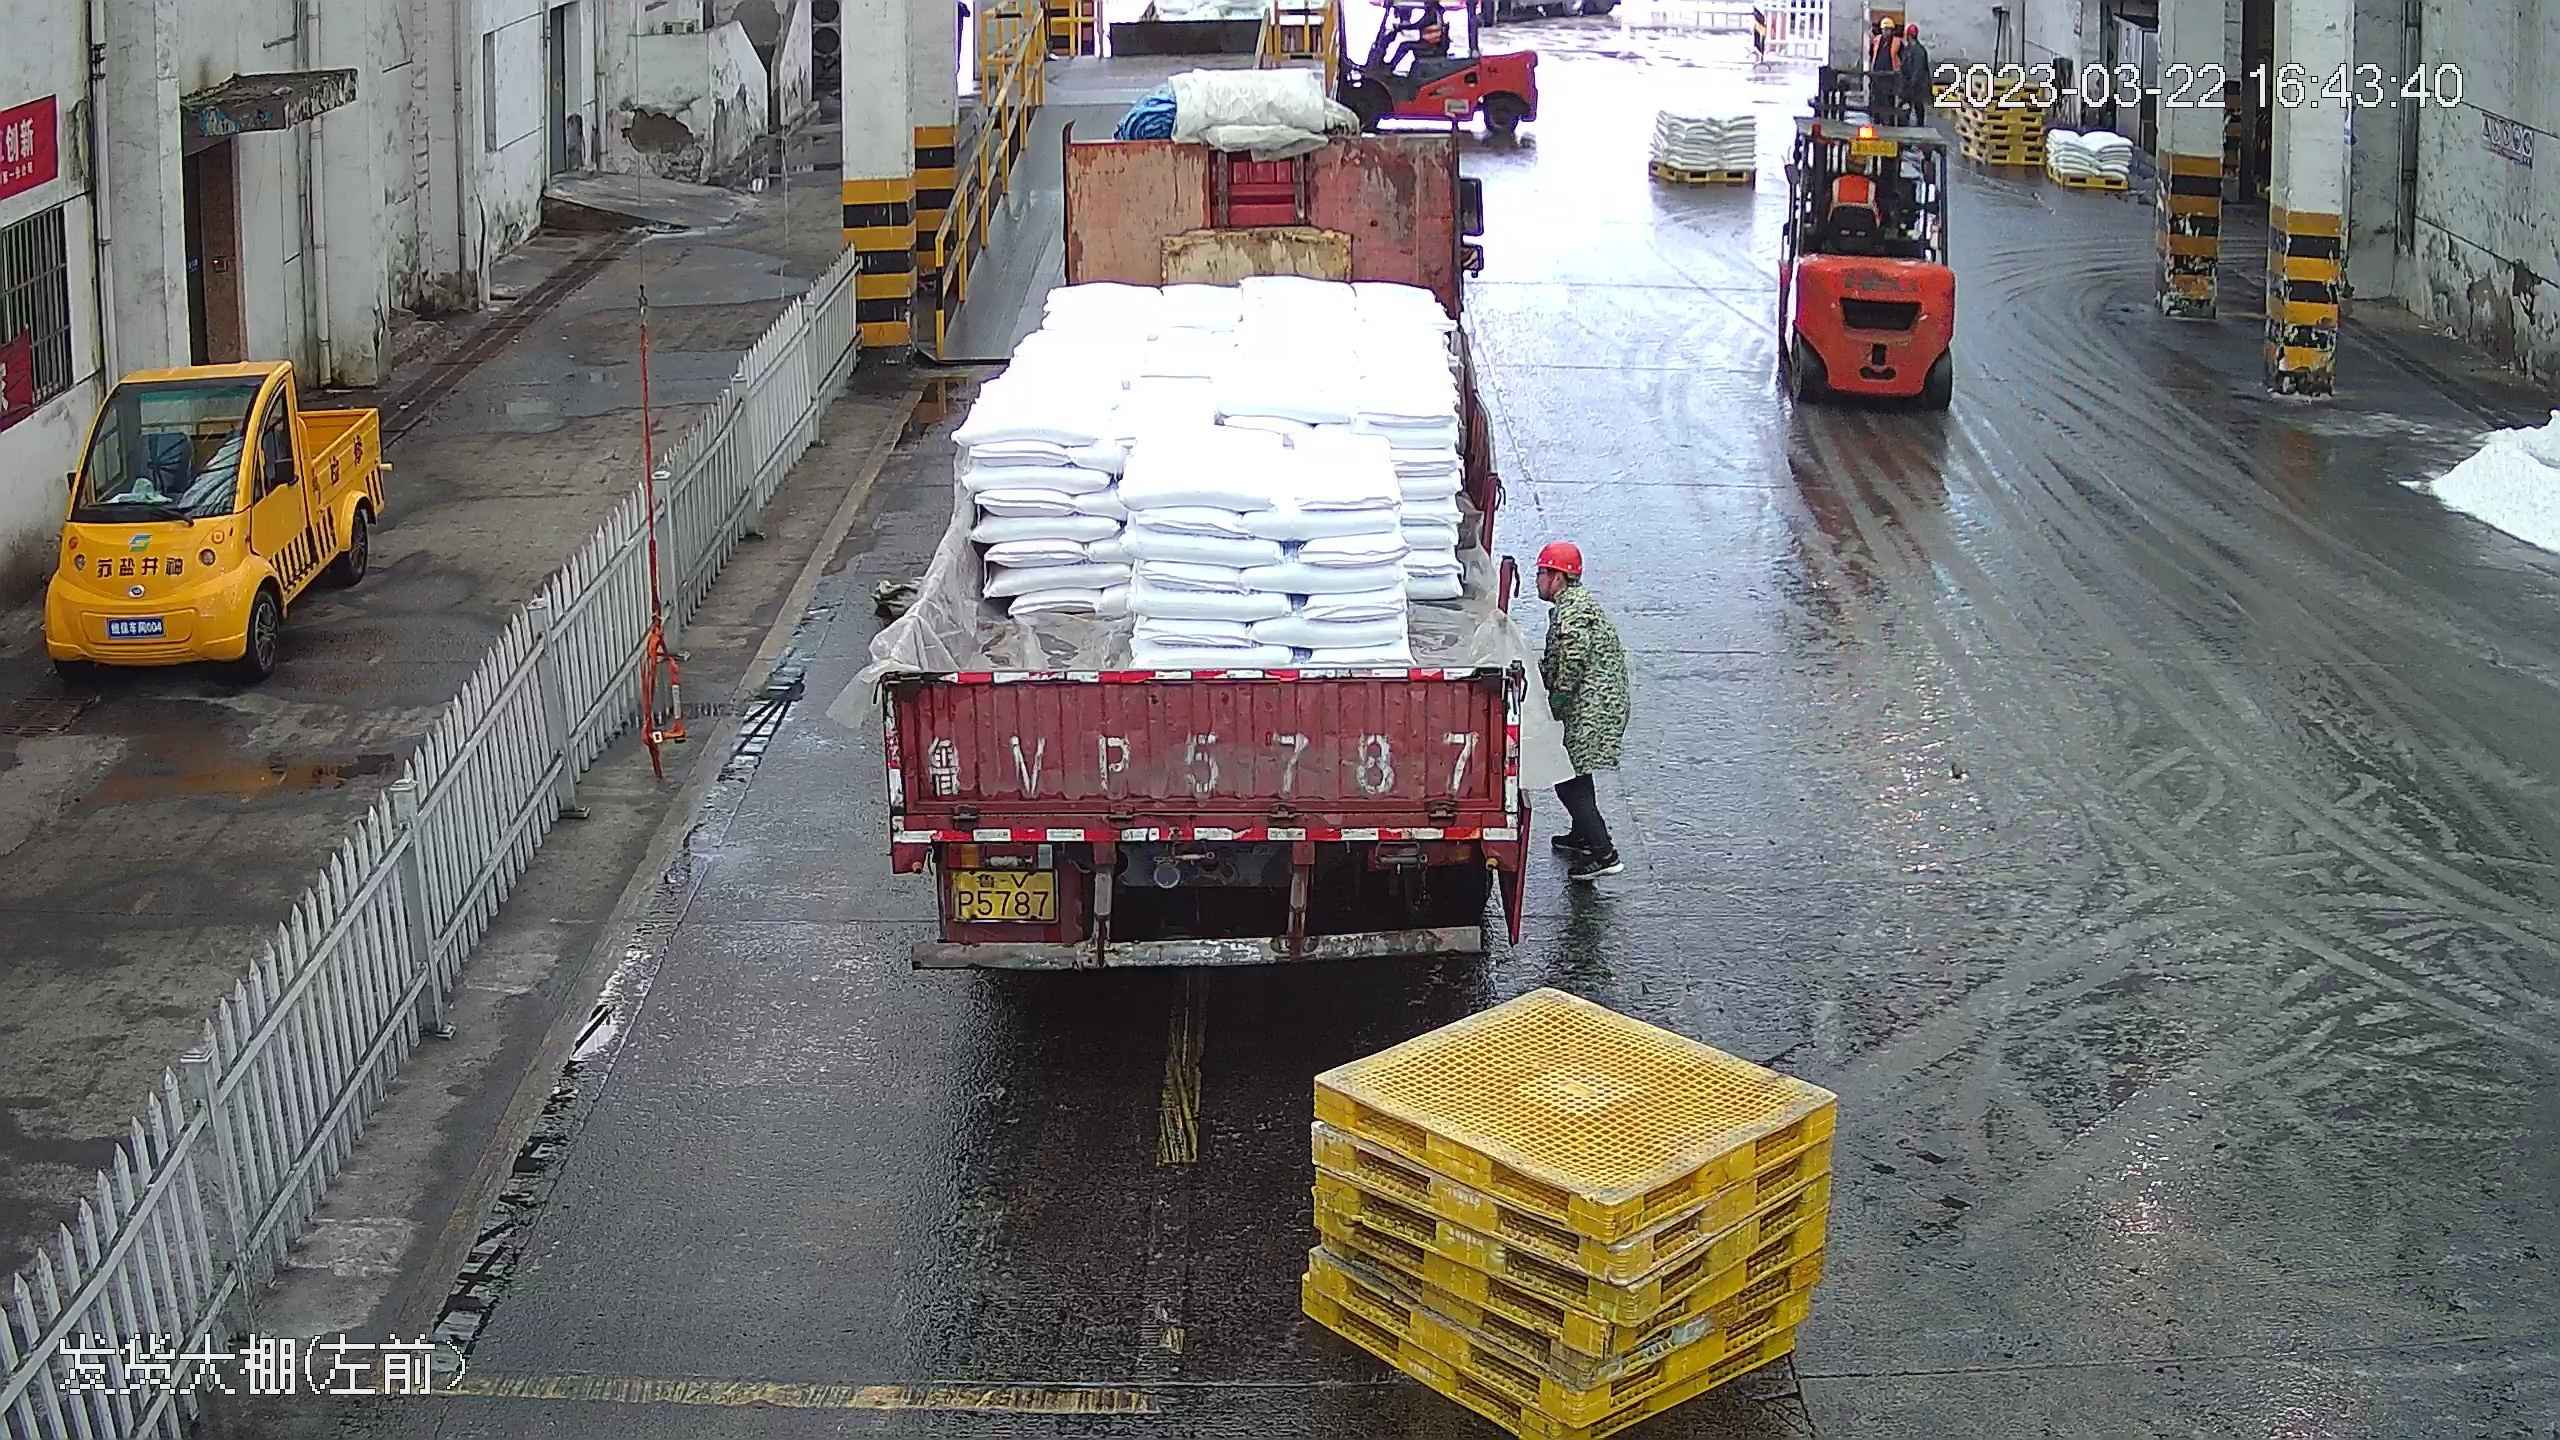head: (1530, 537, 1619, 648), (1826, 149, 1881, 211), (1873, 13, 1902, 54), (1902, 22, 1928, 65)
helmet: (1535, 536, 1584, 574), (1847, 151, 1870, 166), (1879, 16, 1895, 31), (1904, 22, 1921, 35)
people: (1533, 542, 1636, 883), (1371, 1, 1450, 79), (1899, 22, 1935, 126)
truck: (869, 49, 1523, 983)
